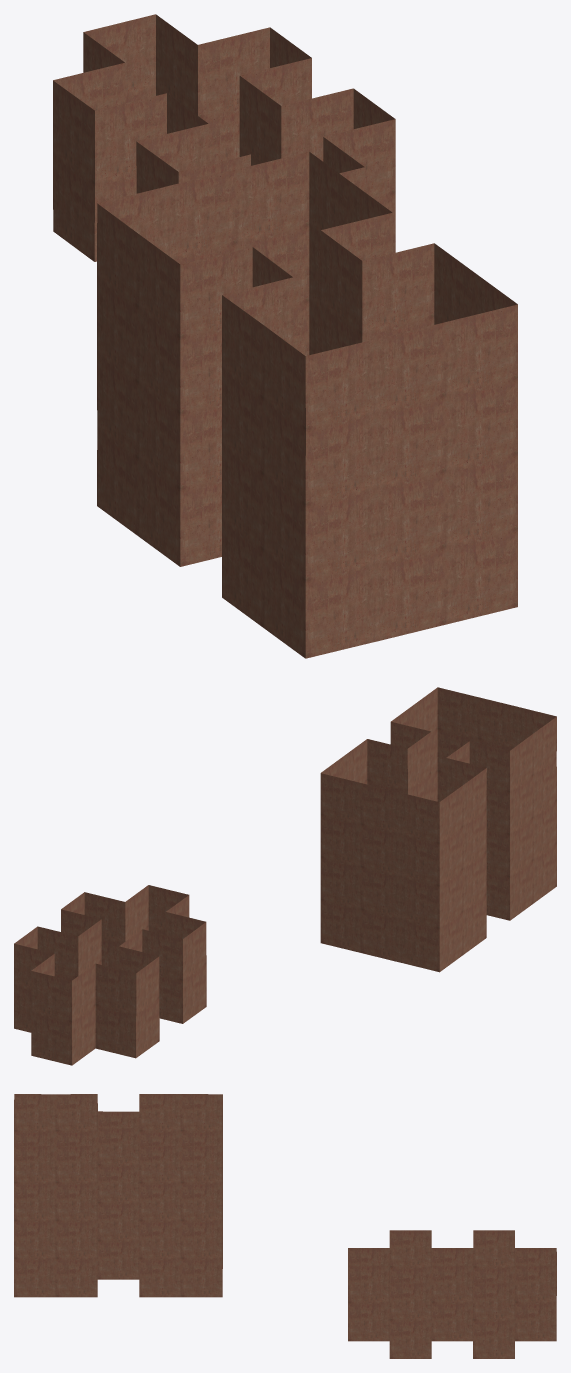
The model's file is SM_Wall_6.fbx.
3 views of the same model, one above another, from view 1: azimuth 30°, elevation 25°; view 2: azimuth 150°, elevation 25°; view 3: azimuth 270°, elevation 25° (orthographic). The views are drawn at different scales.
Visible parts, largest first — view 1: SM_Wall_6; view 2: SM_Wall_6; view 3: SM_Wall_6.
Boxes of the visible parts, <box> form: SM_Wall_6: <box>53,14,517,658</box>; SM_Wall_6: <box>14,687,556,1065</box>; SM_Wall_6: <box>14,1094,556,1358</box>.
Size of the model in its own units: 12.88 by 8 by 26.02.
1 material, 1 textured.
